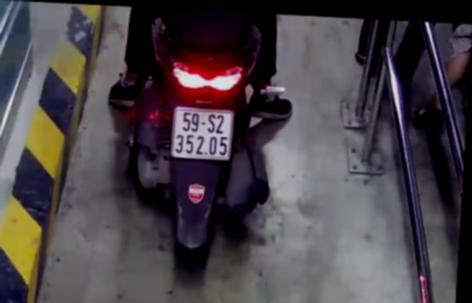License_Plate: (163, 101, 238, 165)
